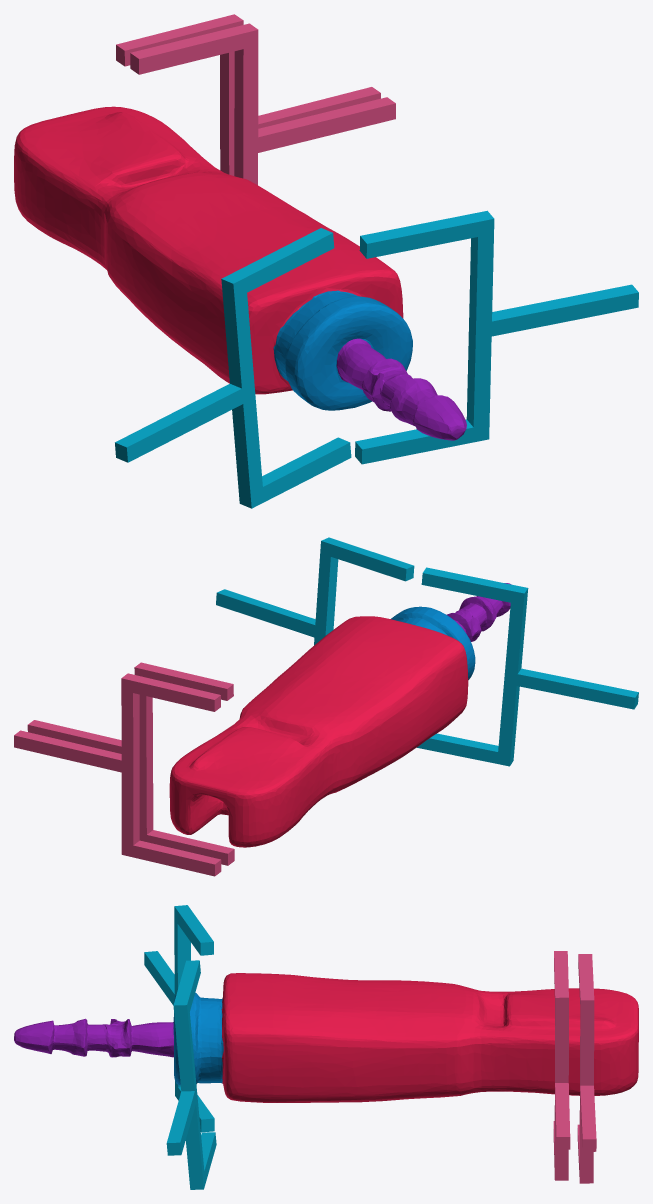
The model's file is repair_tools_afford.glb.
3 renders of one model, top to bottom at view 1: azimuth 30°, elevation 25°; view 2: azimuth 150°, elevation 25°; view 3: azimuth 270°, elevation 25°, orthographic. The views are drawn at different scales.
Parts seen in each view (by area): view 1: world, grasp_3, grasp_2, grasp_1, grasp_0; view 2: world, grasp_0, grasp_2, grasp_1, grasp_3; view 3: world, grasp_3, grasp_0, grasp_1, grasp_2.
Boxes of the visible parts, left/top/right/bottom form: world: left=14, top=106, right=466, bottom=440; grasp_3: left=355, top=210, right=638, bottom=464; grasp_2: left=115, top=228, right=351, bottom=508; grasp_1: left=130, top=23, right=395, bottom=184; grasp_0: left=116, top=14, right=380, bottom=175; world: left=169, top=583, right=511, bottom=847; grasp_0: left=14, top=673, right=221, bottom=876; grasp_2: left=417, top=567, right=638, bottom=766; grasp_1: left=27, top=662, right=234, bottom=865; grasp_3: left=216, top=537, right=414, bottom=645; world: left=14, top=973, right=638, bottom=1102; grasp_3: left=166, top=960, right=216, bottom=1189; grasp_0: left=577, top=954, right=596, bottom=1183; grasp_1: left=553, top=951, right=570, bottom=1180; grasp_2: left=144, top=905, right=214, bottom=1132.
Bounding box in the file's own units: 0.2133 × 0.0933 × 0.2723.
Materials: 1 (1 with a texture image).
